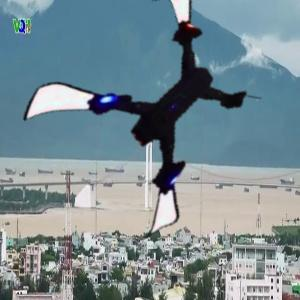drone: (47, 17, 263, 233)
